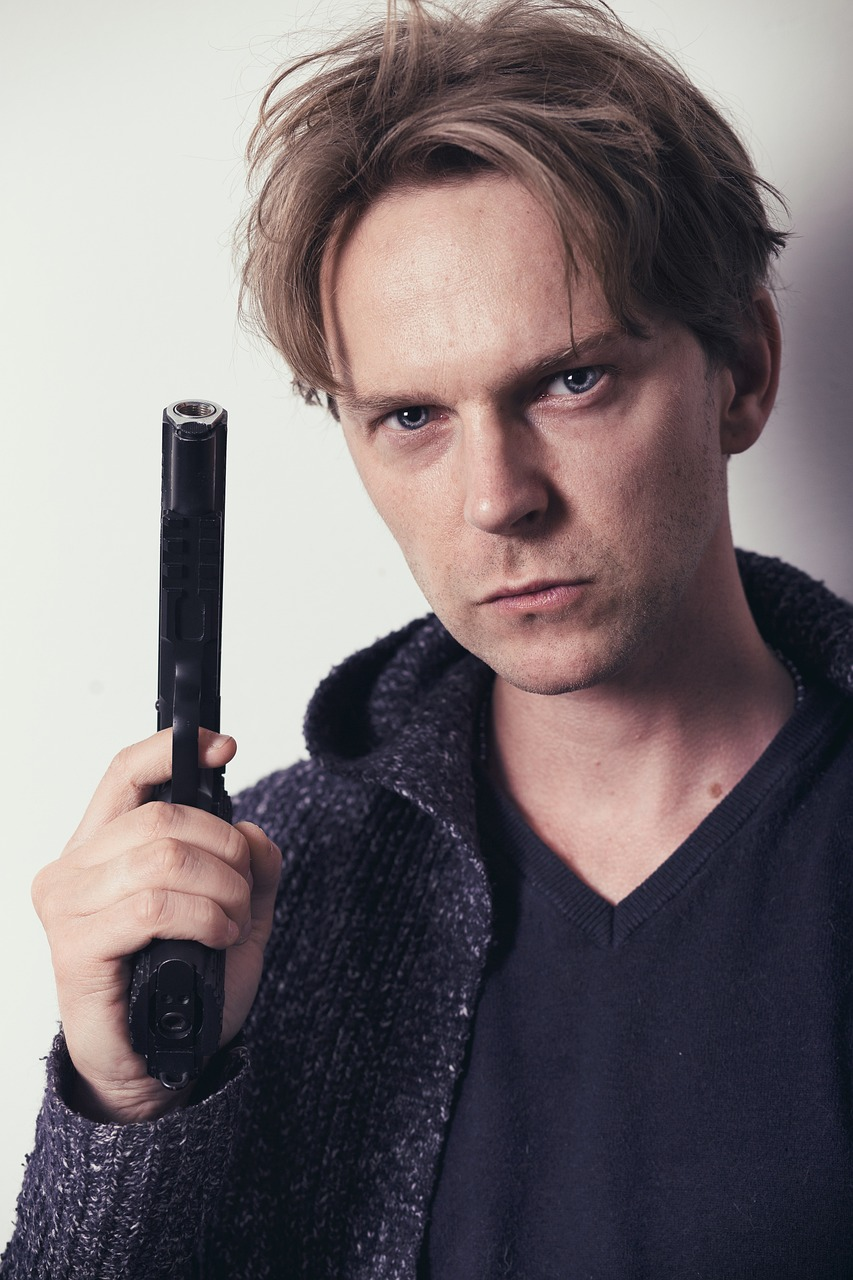gun: (114, 390, 244, 1106)
